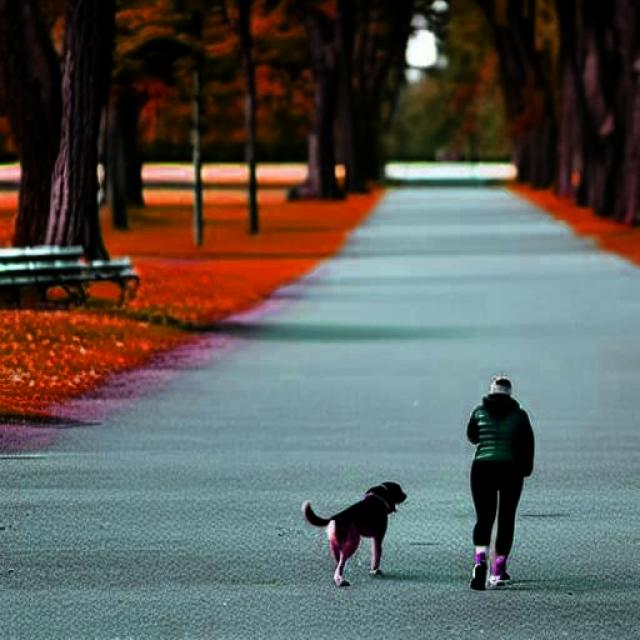Unleashed_Dog: (302, 449, 524, 589)
